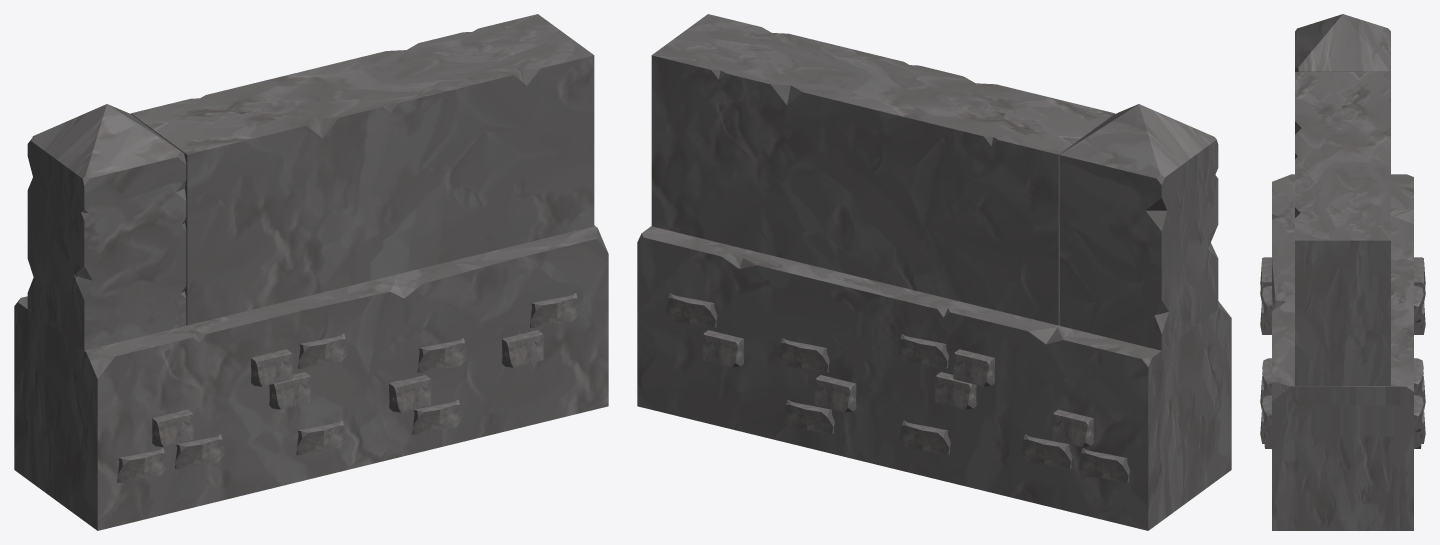
The model's file is Pagar2+batu.fbx.
3 renders of one model, left to right at view 1: azimuth 30°, elevation 25°; view 2: azimuth 150°, elevation 25°; view 3: azimuth 270°, elevation 25°, orthographic. The views are drawn at different scales.
Parts seen in each view (by area): view 1: Tembok.003; view 2: Tembok.003; view 3: Tembok.003.
Boxes of the visible parts, x1=… form: Tembok.003: x1=14, y1=14, x2=608, y2=530; Tembok.003: x1=637, y1=14, x2=1231, y2=530; Tembok.003: x1=1260, y1=14, x2=1425, y2=530.
Bounding box in the file's own units: 250 × 179 × 82.45.
